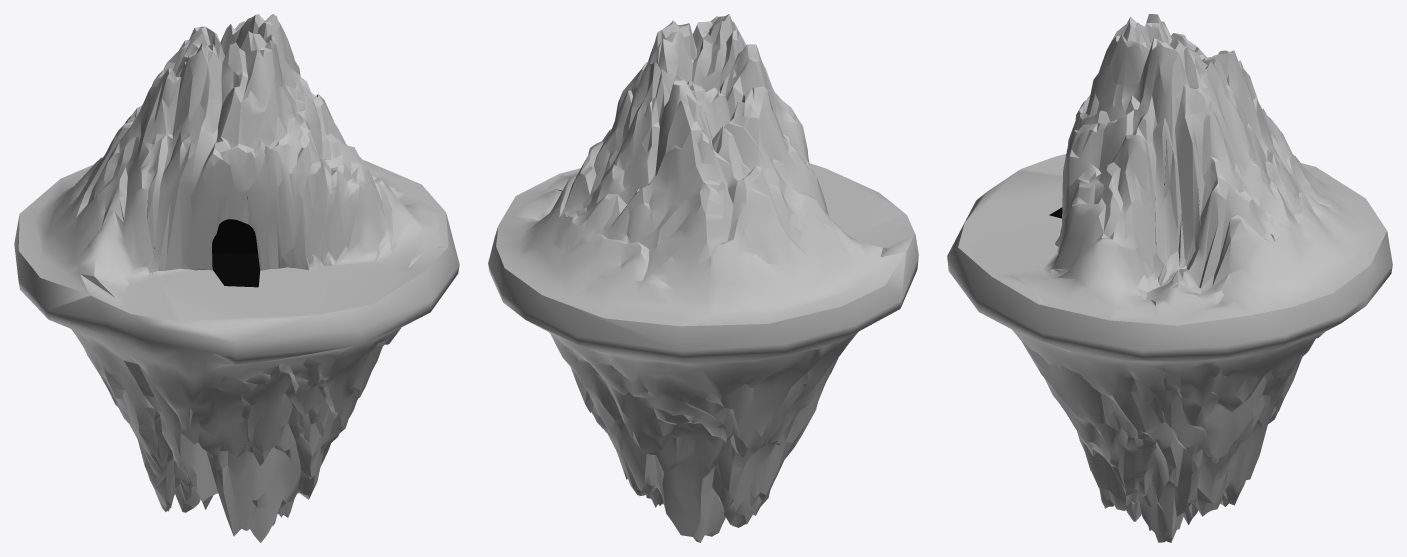
File: Island Mountain.fbx
3 views of the same model, side by side, from view 1: azimuth 30°, elevation 25°; view 2: azimuth 150°, elevation 25°; view 3: azimuth 270°, elevation 25° (orthographic). The views are drawn at different scales.
Visible parts, largest first — view 1: Island Mountain_Baked; view 2: Island Mountain_Baked; view 3: Island Mountain_Baked.
Part boxes in pixels (x1=…): Island Mountain_Baked: x1=14, y1=14, x2=459, y2=542; Island Mountain_Baked: x1=488, y1=14, x2=918, y2=542; Island Mountain_Baked: x1=947, y1=14, x2=1392, y2=542.
Size of the model in its own units: 15004 by 18584 by 15002.
Materials: 1 (1 with a texture image).
